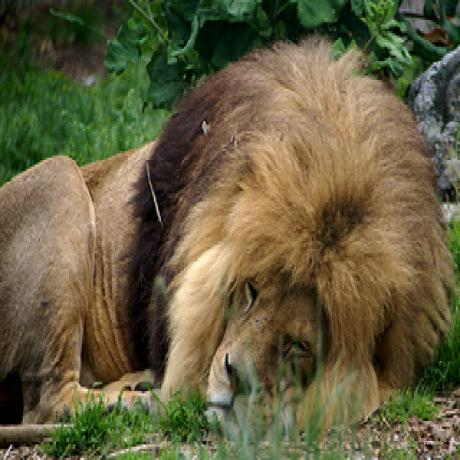Lion: (0, 34, 450, 430)
